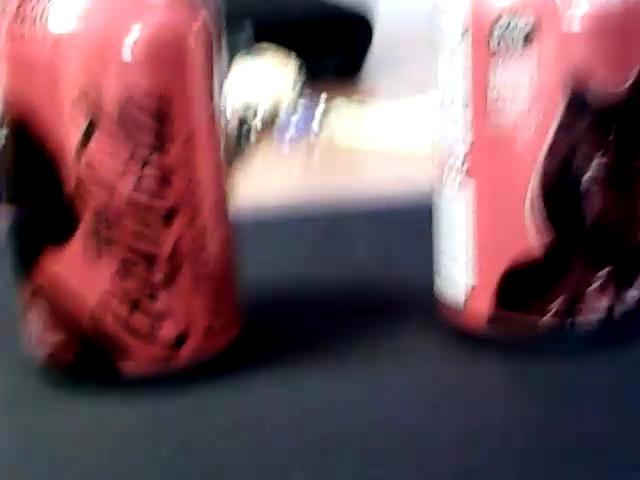coke: (6, 2, 237, 376), (431, 5, 635, 349)
